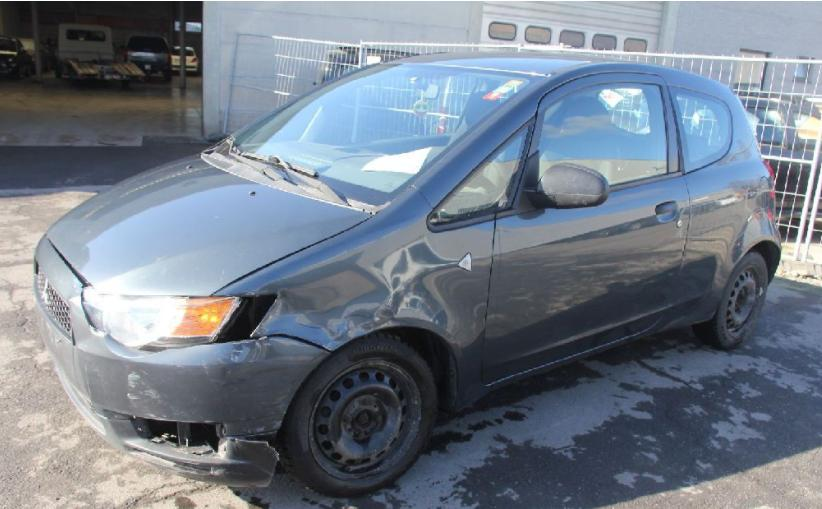Back-wheel: (691, 254, 767, 349)
Back-window: (667, 85, 733, 175)
Fender: (212, 185, 494, 415)
Front-bumper: (34, 234, 333, 483)
Front-door: (483, 73, 690, 385)
Front-wheel: (281, 331, 436, 498)
Front-window: (538, 87, 666, 186), (428, 123, 528, 227)
Grille: (34, 264, 74, 342)
Headlight: (82, 289, 245, 350)
Hood: (44, 157, 375, 295)
Mirror: (525, 164, 610, 209)
Quarter-panel: (655, 144, 781, 331)
Rocker-panel: (484, 326, 664, 395)
Roof: (390, 51, 728, 85)
Windshield: (200, 63, 537, 215)
